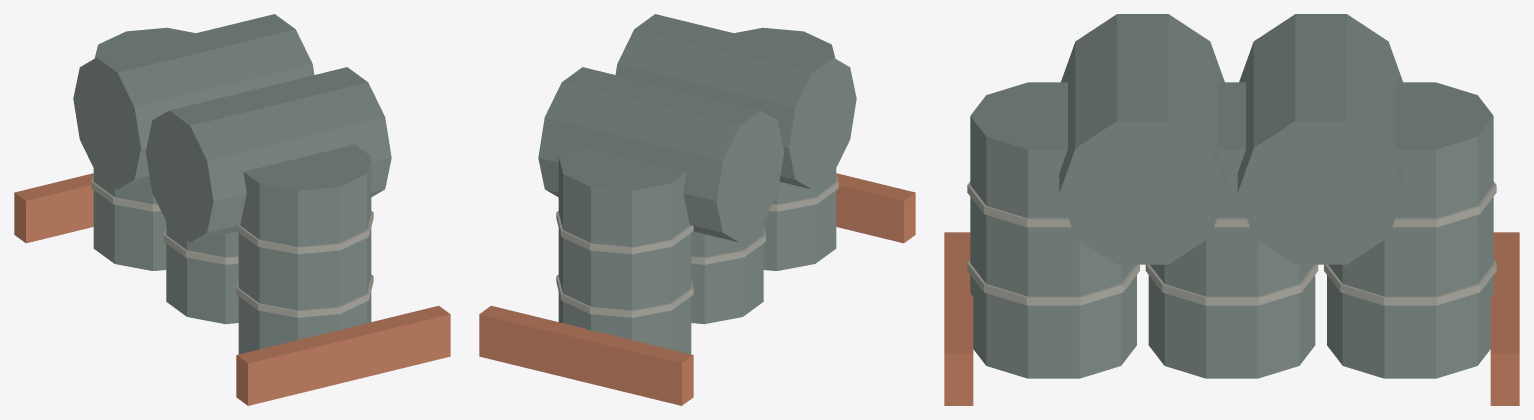
The model's file is SM_Bidones_v2_Tumbados_LOD0.fbx.
3 views of the same model, side by side, from view 1: azimuth 30°, elevation 25°; view 2: azimuth 150°, elevation 25°; view 3: azimuth 270°, elevation 25° (orthographic). The views are drawn at different scales.
Visible parts, largest first — view 1: SM_sagunto_vivo_v2_LOD0; view 2: SM_sagunto_vivo_v2_LOD0; view 3: SM_sagunto_vivo_v2_LOD0.
Boxes of the visible parts, <box> form: SM_sagunto_vivo_v2_LOD0: <box>14,14,450,405</box>; SM_sagunto_vivo_v2_LOD0: <box>479,14,915,405</box>; SM_sagunto_vivo_v2_LOD0: <box>944,14,1519,405</box>.
Size of the model in its own units: 1 by 1.07 by 2.
